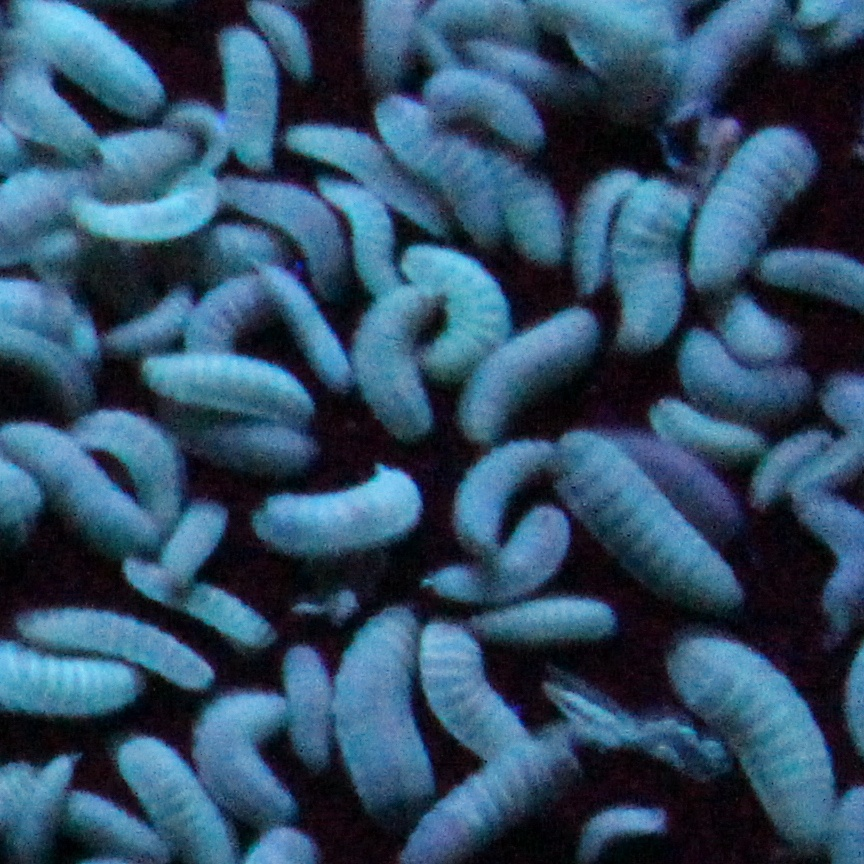larve: (664, 636, 840, 850), (557, 431, 752, 616), (333, 605, 445, 812), (693, 123, 822, 295), (3, 423, 159, 554), (17, 593, 214, 688), (286, 123, 455, 233), (464, 311, 600, 443), (419, 618, 529, 766), (193, 692, 309, 824), (248, 252, 352, 397), (252, 466, 424, 552), (355, 268, 434, 452), (124, 559, 281, 650), (138, 350, 329, 424), (612, 176, 688, 349), (74, 411, 186, 524), (0, 42, 102, 166), (403, 252, 507, 373), (69, 166, 226, 240), (683, 326, 807, 419), (455, 440, 552, 552), (422, 76, 550, 150), (576, 157, 643, 297), (215, 31, 278, 174), (647, 393, 769, 462), (465, 599, 619, 645), (278, 642, 328, 771), (758, 238, 864, 295), (572, 805, 672, 861), (110, 292, 198, 354), (183, 424, 317, 461), (169, 492, 224, 576)
